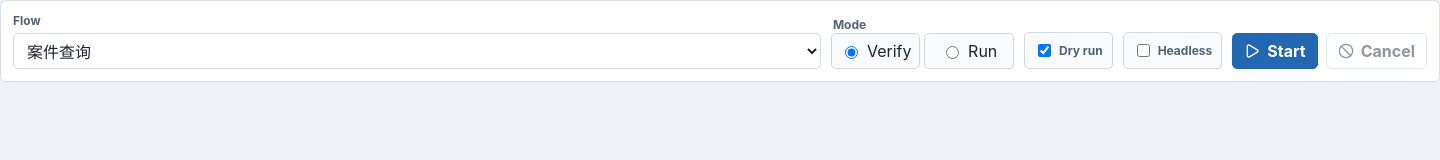
Scenario: ExecutionControlBar › switches run mode to non-dry-run headless defaults
Click the radio button labelled "Run" at point(953, 52), box x1=946 y1=46 x2=959 y2=59
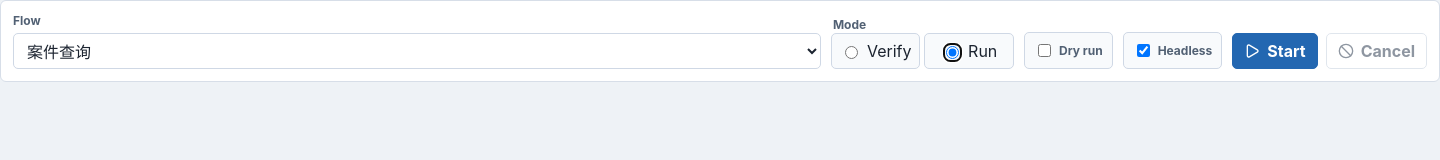
Check: the radio button labelled "Run" is checked, box x1=946 y1=46 x2=959 y2=59
Check: the checkbox labelled "Dry run" is not checked, box x1=1038 y1=44 x2=1051 y2=57
Check: the checkbox labelled "Headless" is checked, box x1=1137 y1=44 x2=1150 y2=57
